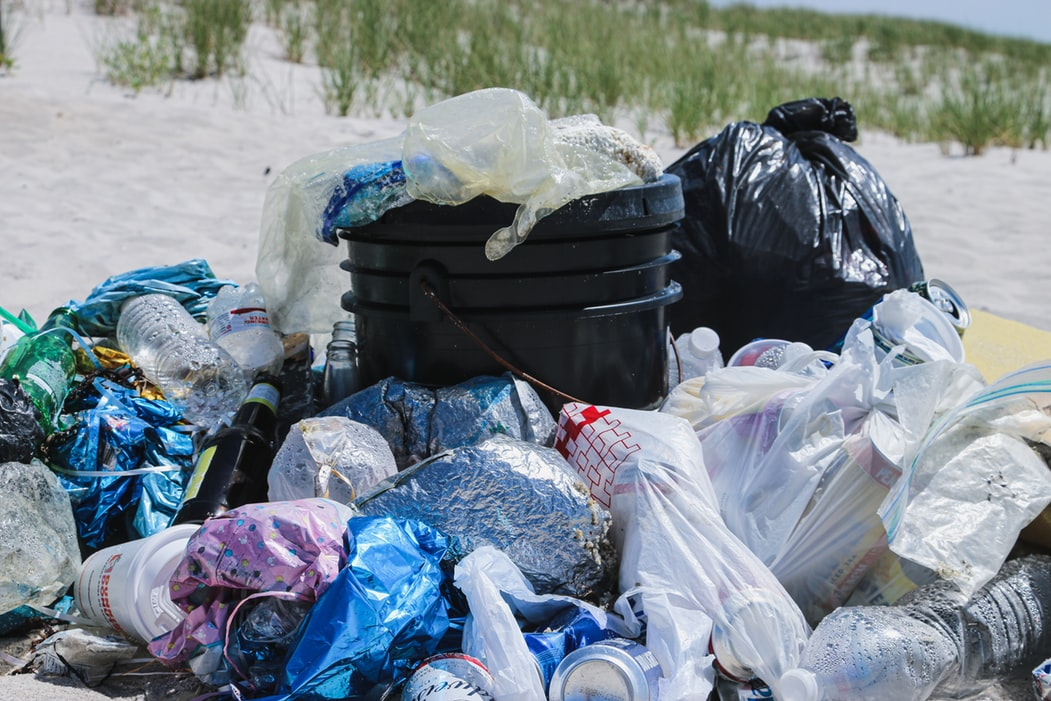garbage: (4, 302, 1051, 698), (270, 117, 941, 701)
